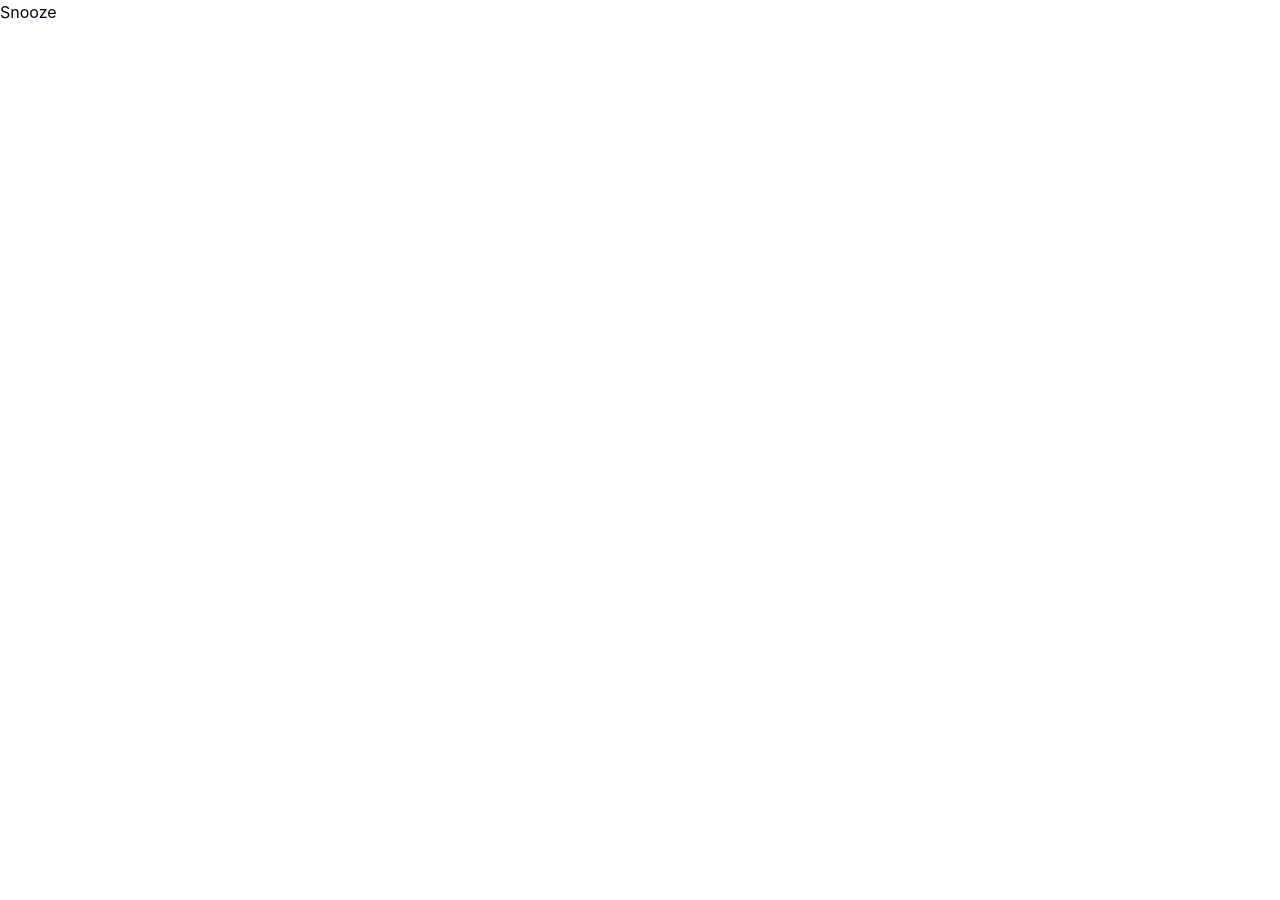
Scenario: a custom snooze time › refuses a past time with a message tied to the field, and stays open
The image size is (1280, 900).
Press Enter in the button "Snooze", box top-left (0, 0), bottom-right (57, 24)
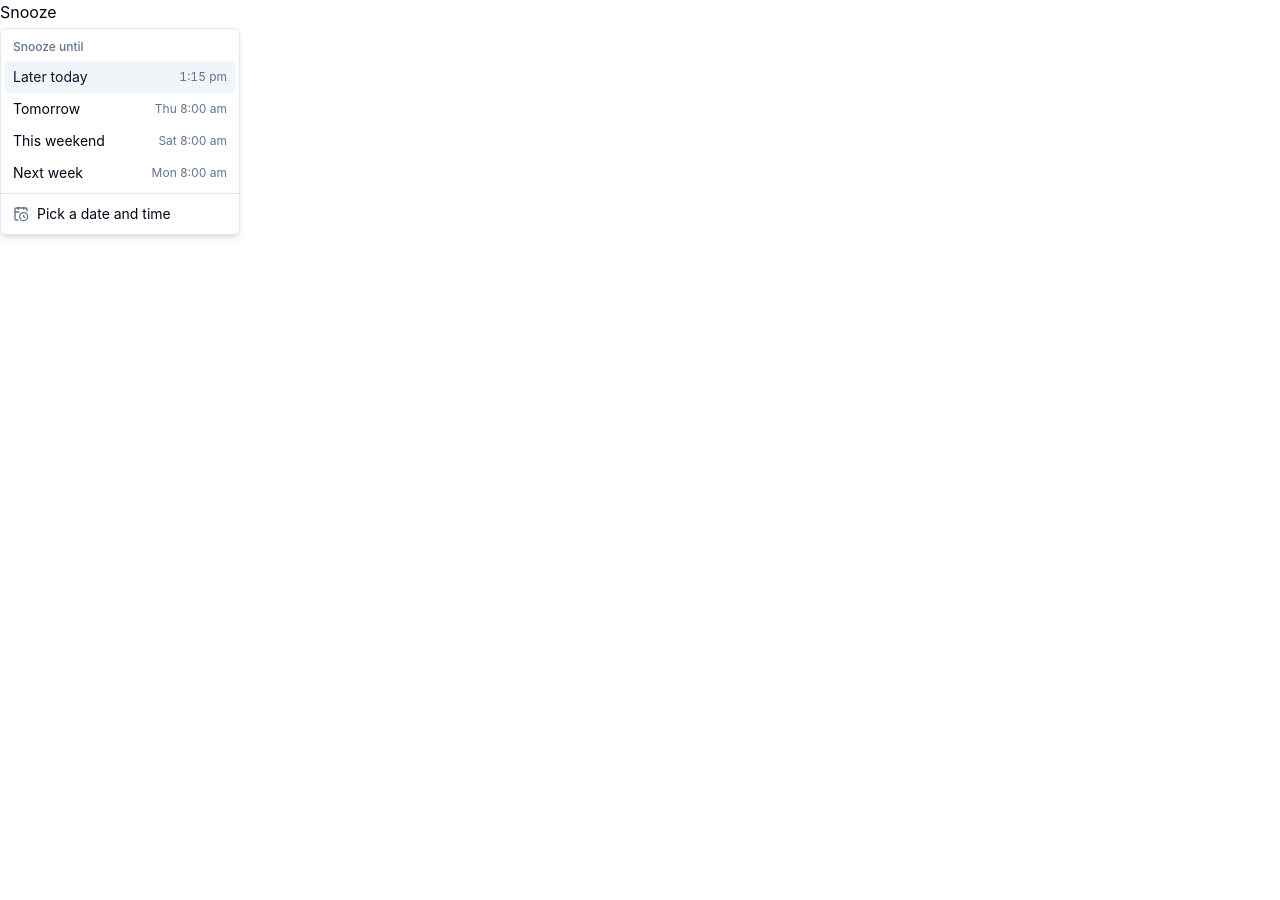
Click the menu item "Pick a date and time": (92, 214) top-left (13, 205), bottom-right (171, 222)
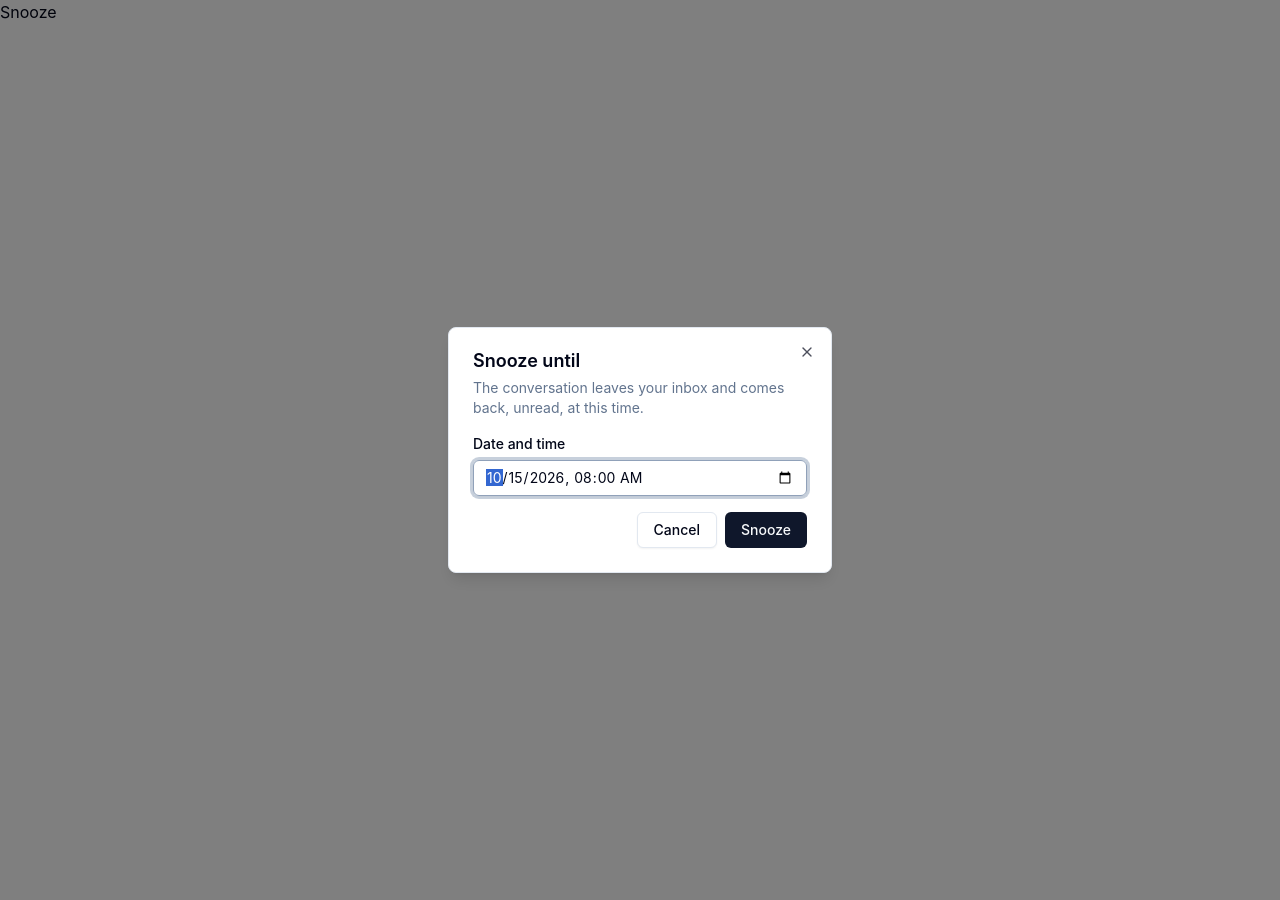
Replace the text in the field labelled "Date and time" with "2026-10-14T09:00": (640, 478) top-left (473, 460), bottom-right (807, 496)
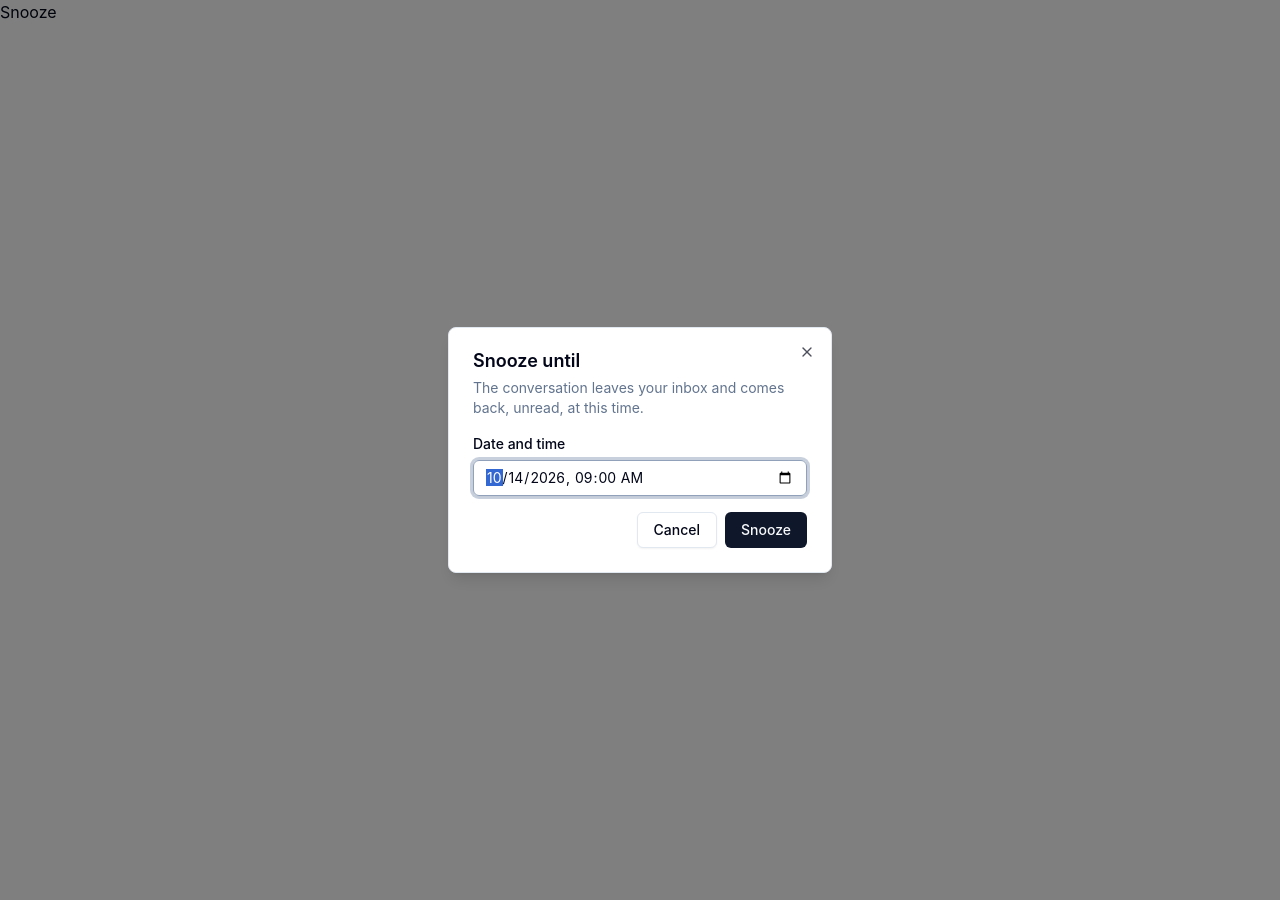
Click the button "Snooze": (766, 530) top-left (725, 512), bottom-right (807, 548)
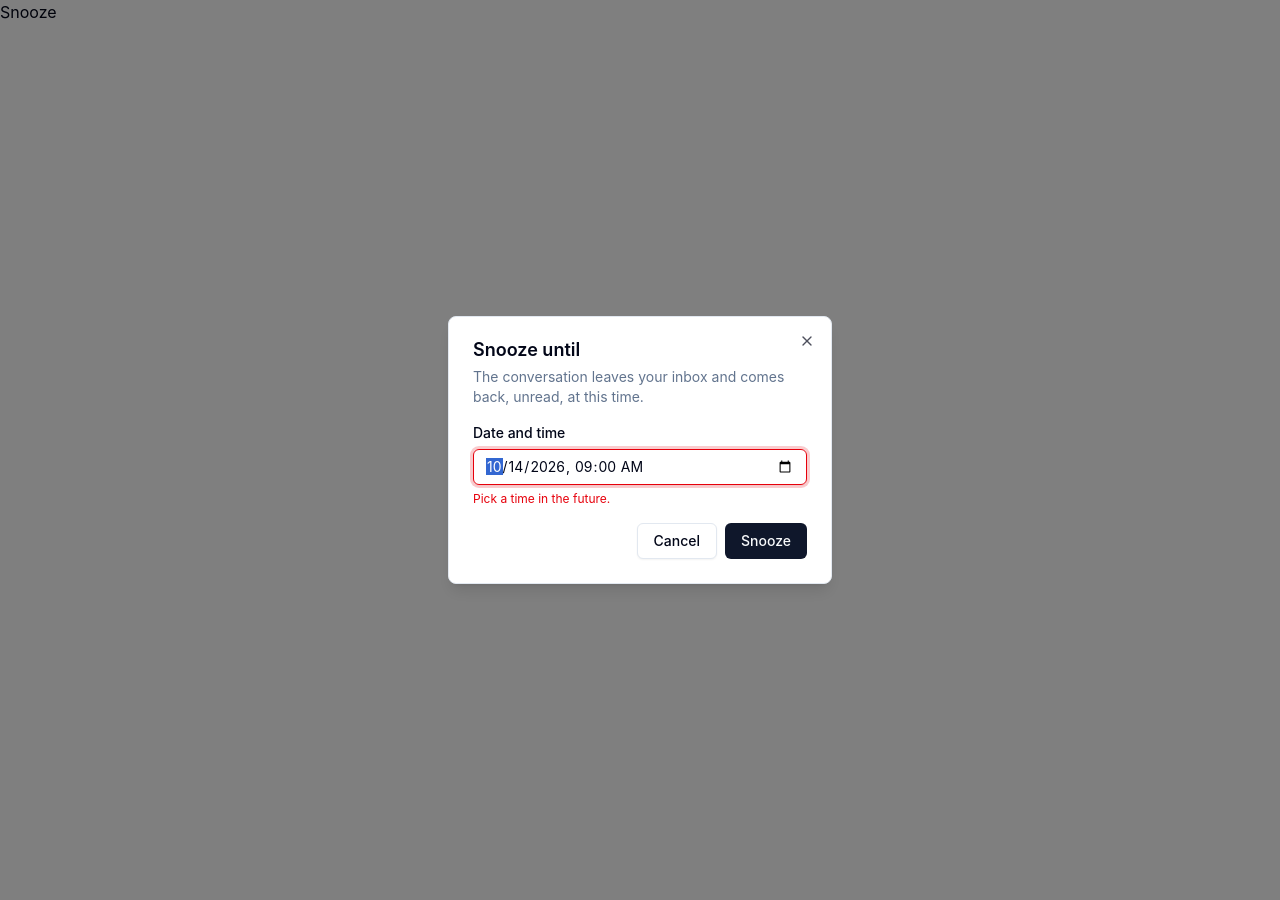
Check: the message reads "Pick a time in the future.", box top-left (473, 491), bottom-right (610, 506)
